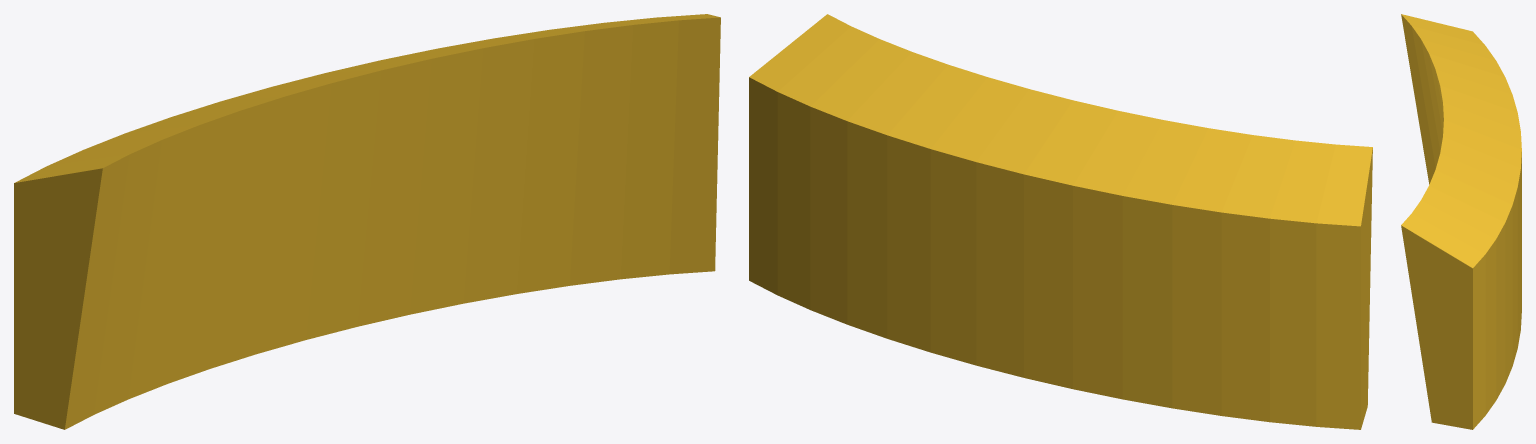
Rendered from dozer_blade.glb.
The picture shows the model from 3 angles, left to right: view 1: azimuth 30°, elevation 25°; view 2: azimuth 150°, elevation 25°; view 3: azimuth 270°, elevation 25°; orthographic projection. The views are drawn at different scales.
Visible parts, largest first — view 1: dozer_blade; view 2: dozer_blade; view 3: dozer_blade.
Part boxes in pixels (<box>): dozer_blade: <box>14,14,720,429</box>; dozer_blade: <box>749,14,1372,429</box>; dozer_blade: <box>1401,14,1521,429</box>.
Bounding box in the file's own units: 0.5034 × 0.19 × 0.1085.
